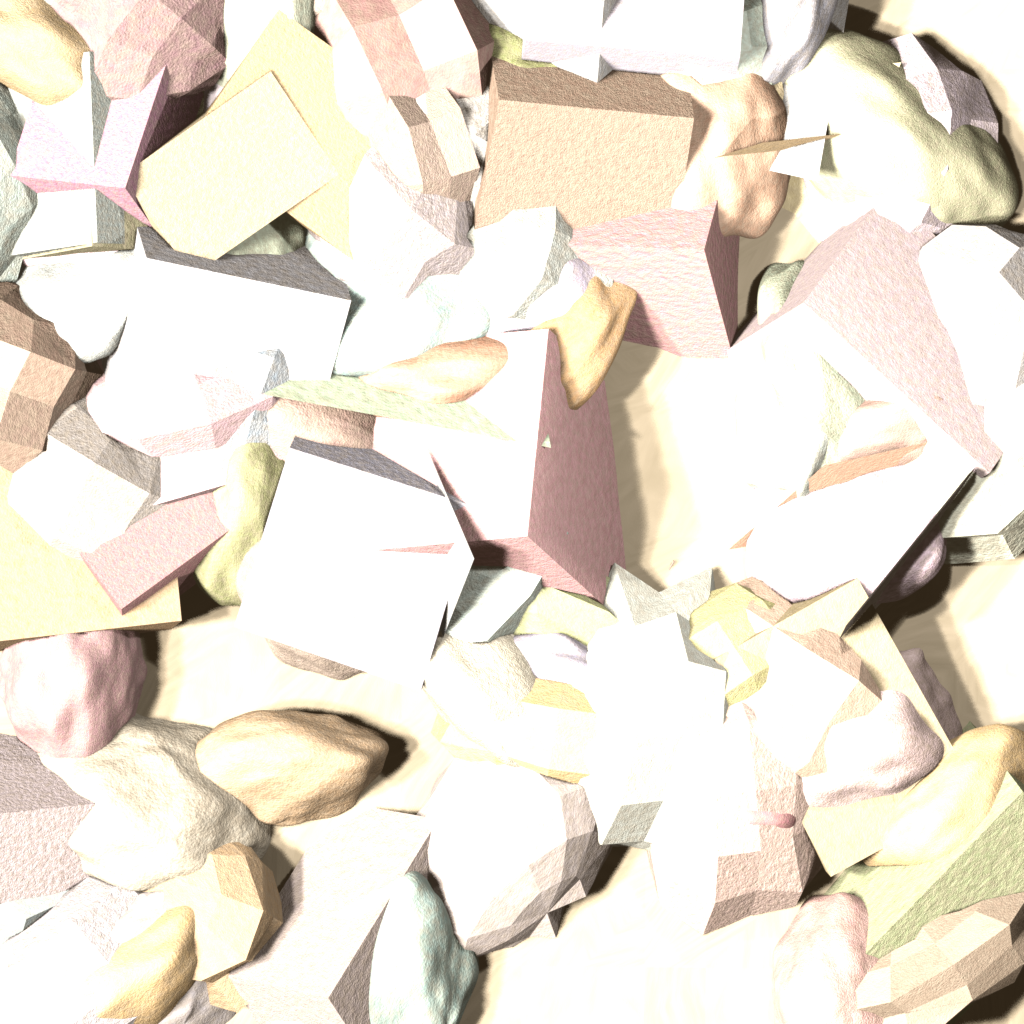rock: (74, 139, 688, 523), (580, 517, 1008, 904), (198, 96, 601, 482), (270, 0, 701, 285), (390, 491, 747, 809), (59, 289, 418, 598), (347, 94, 697, 408), (598, 594, 868, 992), (391, 169, 685, 501), (237, 0, 542, 313), (690, 555, 980, 878), (737, 3, 1023, 314), (561, 0, 843, 307), (0, 1, 236, 353), (143, 323, 362, 669), (401, 585, 717, 824), (7, 360, 262, 652), (0, 808, 346, 1023), (797, 716, 1023, 1023), (99, 128, 354, 400), (449, 0, 698, 275), (686, 347, 1023, 546), (7, 34, 256, 303), (789, 419, 1023, 705), (637, 524, 847, 834), (0, 791, 271, 1023), (225, 797, 501, 1023), (535, 0, 873, 171), (703, 414, 1023, 594), (270, 291, 605, 442), (599, 87, 981, 213), (0, 414, 187, 668), (669, 0, 883, 175), (0, 782, 120, 1023), (168, 0, 495, 66), (0, 0, 197, 104)
